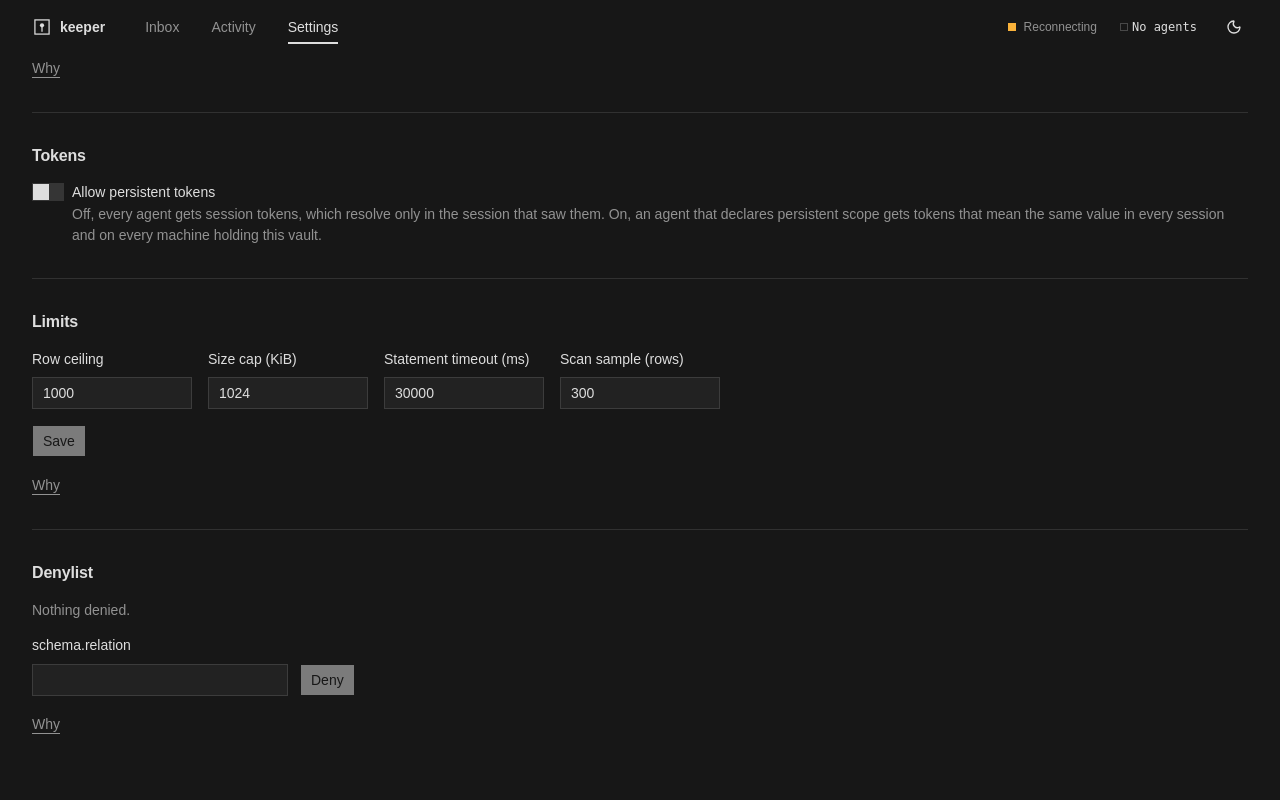
Scenario: reading a settings page › POL-C12 a choice's consequence shows and its section's reasoning waits behind Why
(page scrolled)
expect the text "evaluated against the plan" is not shown: met
Click the button "Why" below "schema.relation". click: (46, 724)
box: top-left (32, 714), bottom-right (60, 734)
(page scrolled)
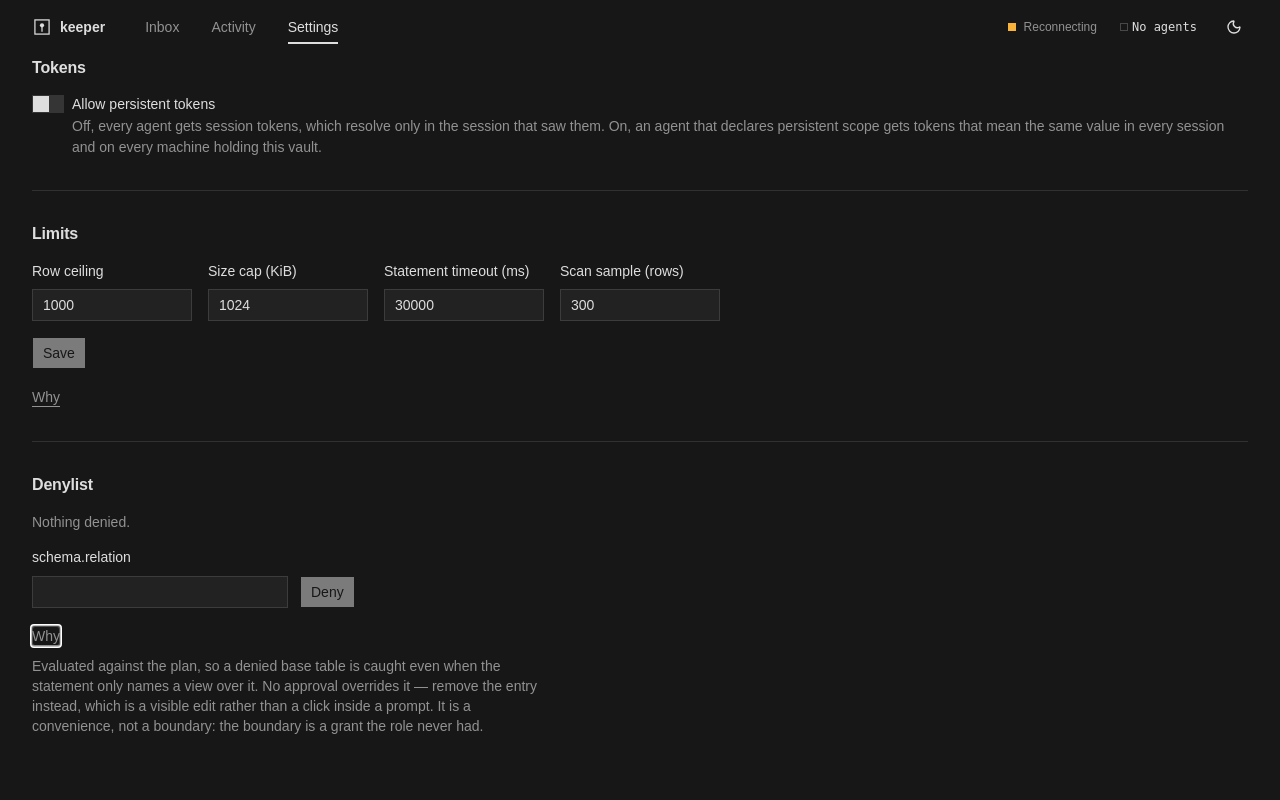
expect the text "Evaluated against the plan" is shown: met, box top-left (32, 658), bottom-right (537, 734)
